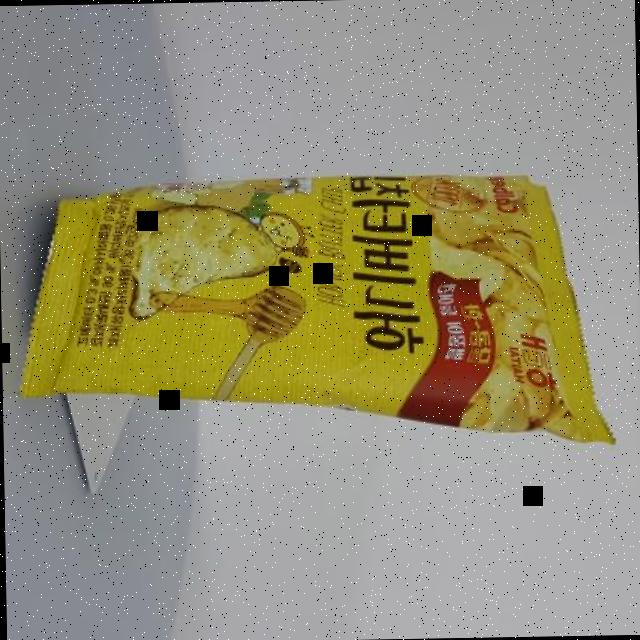snack_bag: (0, 149, 624, 469)
